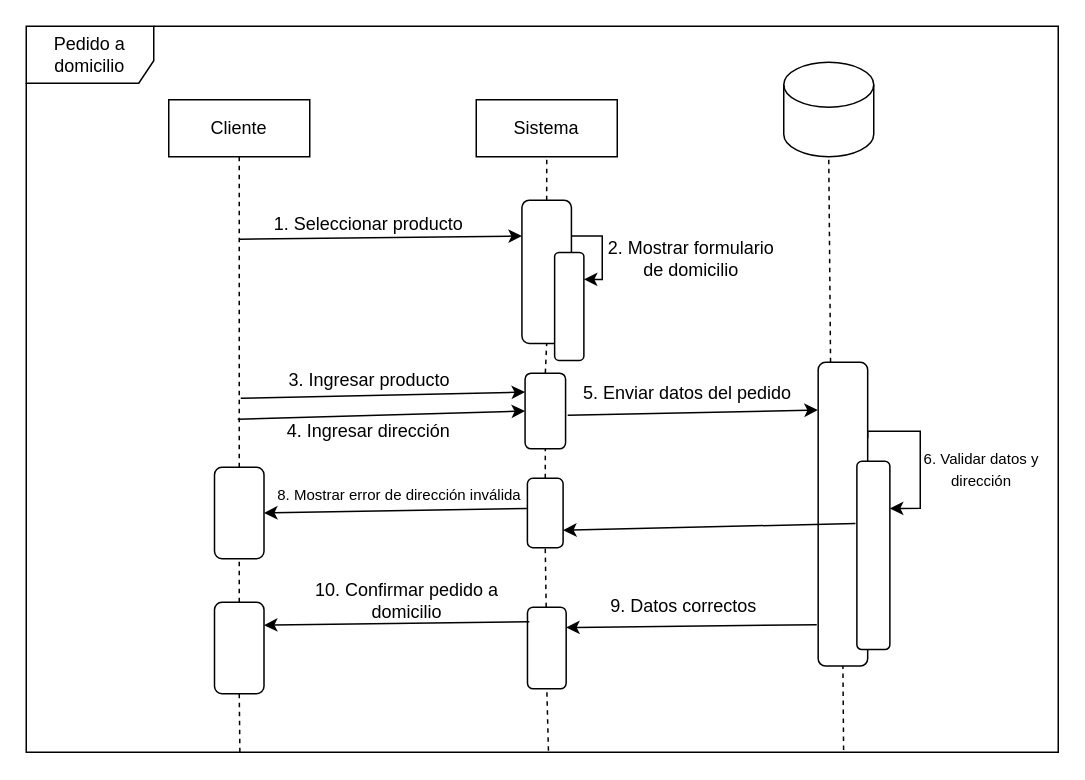
Some shapes in this 1085 by 780 pixel diagram are drawn without their labels. The box of each missing label's shape, as (x1, y1, x2, y2) in pixels:
7. Dirección inválida: (817, 361, 868, 666)
BD: (782, 61, 874, 157)
